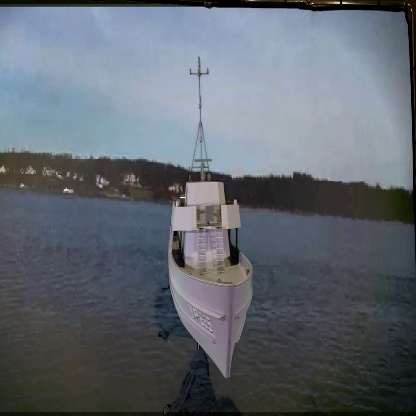YP689: (167, 54, 255, 378)
